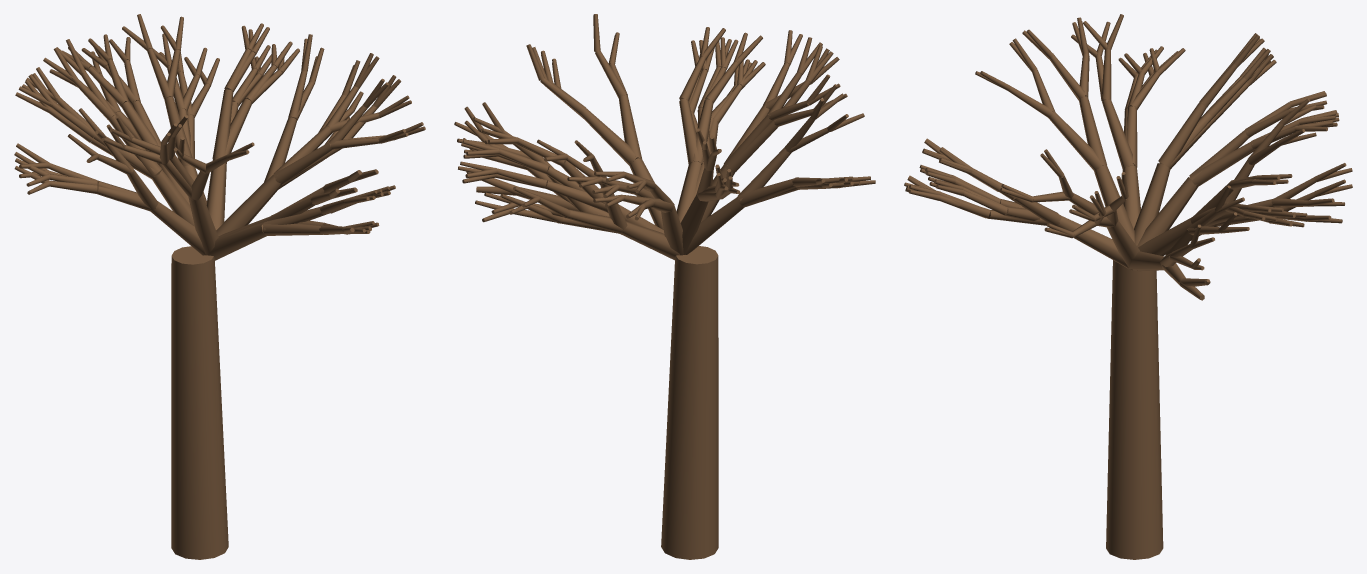
The model's file is crimson-snow-tel.glb.
3 renders of one model, left to right at view 1: azimuth 30°, elevation 25°; view 2: azimuth 150°, elevation 25°; view 3: azimuth 270°, elevation 25°, orthographic.
Parts seen in each view (by area): view 1: torzs, gally-8-2 (×2), gally-0-2 (×2), gally-0-1, gally-2-2 (×2), gally-8-1, gally-2-1, gally-4-1, gally-3-1, gally-5-1, gally-9-2, gally-7-2 (+2 smaller); view 2: torzs, gally-0-2 (×2), gally-4-2 (×2), gally-1-2 (×2), gally-4-1, gally-7-1, gally-5-1, gally-1-1, gally-6-1, gally-8-2, gally-7-2, gally-3-2 (+1 smaller); view 3: torzs, gally-3-2 (×2), gally-6-1, gally-5-1, gally-1-1, gally-3-1, gally-4-2, gally-5-2, gally-6-2, gally-8-1, gally-4-1, gally-0-1 (+1 smaller).
Part boxes in pixels (<box>): torzs: <box>171,246,228,559</box>; gally-8-2 (×2): <box>212,89,251,158</box>; gally-0-2 (×2): <box>273,125,332,184</box>; gally-0-1: <box>216,174,281,236</box>; gally-2-2 (×2): <box>263,206,324,235</box>; gally-8-1: <box>206,158,226,230</box>; gally-2-1: <box>208,221,266,260</box>; gally-4-1: <box>151,201,206,255</box>; gally-3-1: <box>188,195,218,255</box>; gally-5-1: <box>152,170,194,226</box>; gally-9-2: <box>264,117,296,182</box>; gally-7-2: <box>164,96,192,166</box>; torzs: <box>661,246,718,559</box>; gally-0-2 (×2): <box>580,94,641,164</box>; gally-4-2 (×2): <box>737,147,795,205</box>; gally-1-2 (×2): <box>679,98,713,163</box>; gally-4-1: <box>685,197,743,254</box>; gally-7-1: <box>620,221,679,260</box>; gally-5-1: <box>680,195,708,254</box>; gally-1-1: <box>676,161,701,222</box>; gally-6-1: <box>661,205,683,255</box>; gally-8-2: <box>545,180,607,211</box>; gally-7-2: <box>566,209,624,232</box>; gally-3-2: <box>724,120,777,173</box>; torzs: <box>1106,260,1163,559</box>; gally-3-2 (×2): <box>1048,96,1106,170</box>; gally-6-1: <box>1137,177,1197,247</box>; gally-5-1: <box>1134,163,1170,245</box>; gally-1-1: <box>1056,215,1132,270</box>; gally-3-1: <box>1094,165,1134,242</box>; gally-4-2: <box>1102,99,1136,168</box>; gally-5-2: <box>1158,102,1206,167</box>; gally-6-2: <box>1190,142,1253,186</box>; gally-8-1: <box>1137,217,1191,270</box>; gally-4-1: <box>1122,165,1140,228</box>; gally-0-1: <box>1107,221,1139,270</box>.
Bounding box in the file's own units: 5.61 × 6.97 × 5.82.
